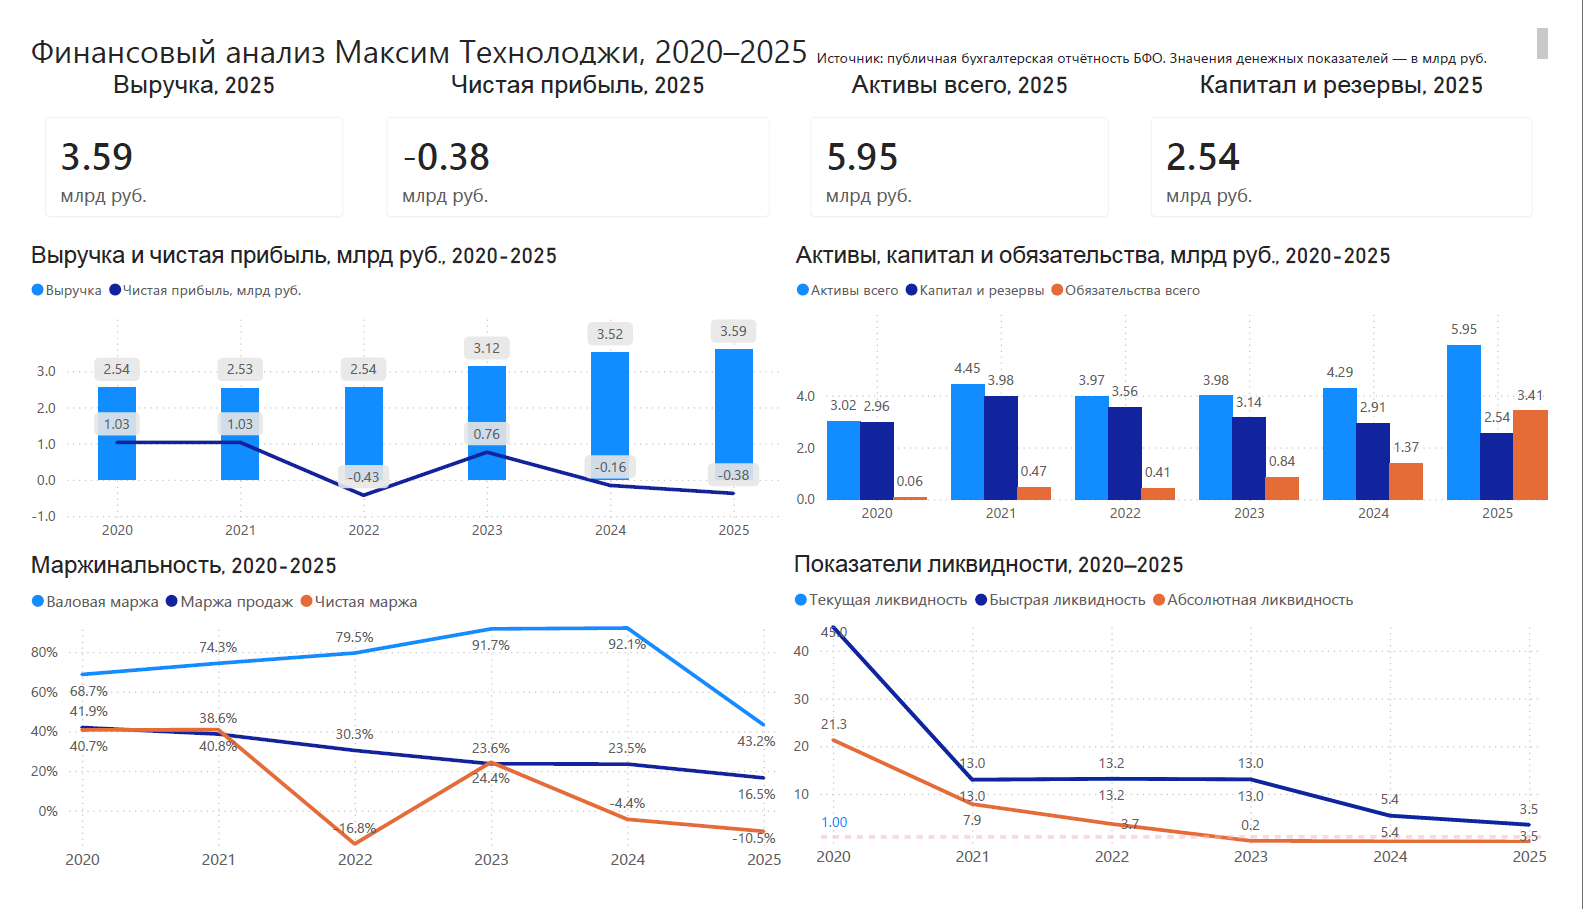

The page's visual inventory and layout, read from the dashboard file:
{"tool":"powerbi","page":{"name":"Финансовый обзор","canvas":[1280,720],"ordinal":0},"visuals":[{"type":"lineClusteredColumnComboChart","title":"Выручка и чистая прибыль, млрд руб., 2020-2025","fields":{"Category":["analytics_mart.Год"],"Y2":["analytics_mart.Чистая прибыль, млрд руб."],"Y":["analytics_mart.Выручка, млрд руб."]},"box":[0,182.9,640,260],"z":0},{"type":"cardVisual","title":"Выручка, 2025","fields":{"Data":["analytics_mart.Выручка, 2025"]},"box":[0,40,284.3,142.9],"z":1},{"type":"actionButton","box":[0,0,100,40],"z":2},{"type":"cardVisual","title":"Чистая прибыль, 2025","fields":{"Data":["analytics_mart.Чистая прибыль, 2025"]},"box":[285.7,40,355.7,142.9],"z":3},{"type":"cardVisual","title":"Активы всего, 2025","fields":{"Data":["analytics_mart.Активы всего, 2025"]},"box":[641.4,40,284.3,142.9],"z":4},{"type":"cardVisual","title":"Капитал и резервы, 2025","fields":{"Data":["analytics_mart.Капитал и резервы, 2025"]},"box":[925.7,40,354.3,142.9],"z":5},{"type":"clusteredColumnChart","title":"Активы, капитал и обязательства, млрд руб., 2020-2025","fields":{"Category":["analytics_mart.Год"],"Y":["analytics_mart.Активы всего, млрд руб.","analytics_mart.Капитал и резервы, млрд руб.","analytics_mart.Обязательства всего, млрд руб."]},"box":[641.4,182.9,638.6,245.7],"z":6},{"type":"lineChart","title":"Маржинальность, 2020-2025","fields":{"Category":["analytics_mart.Год"],"Y":["analytics_mart.Валовая маржа, %","analytics_mart.Маржа продаж, %","analytics_mart.Чистая маржа, %"]},"box":[0,443.5,639.4,276.1],"z":7},{"type":"lineChart","title":"Показатели ликвидности, 2020–2025","fields":{"Category":["analytics_mart.Год"],"Y":["analytics_mart.Коэффициент текущей ликвидности 2","analytics_mart.Коэффициент быстрой ликвидности 2","analytics_mart.Коэффициент абсолютной ликвидности 2"]},"box":[638.8,442.3,641.5,276.2],"z":8},{"type":"textbox","box":[0,0,1280,40],"z":9}]}

Visuals, with their boxes in screenshot pixels (x1, y1, x2, y2), scaled from the page's 1280x720 canvas onto the 1583x909 screenshot:
"Выручка и чистая прибыль, млрд руб., 2020-2025" lineClusteredColumnComboChart: Rect(0, 231, 792, 559)
"Выручка, 2025" cardVisual: Rect(0, 50, 352, 231)
actionButton: Rect(0, 0, 124, 50)
"Чистая прибыль, 2025" cardVisual: Rect(353, 50, 793, 231)
"Активы всего, 2025" cardVisual: Rect(793, 50, 1145, 231)
"Капитал и резервы, 2025" cardVisual: Rect(1145, 50, 1582, 231)
"Активы, капитал и обязательства, млрд руб., 2020-2025" clusteredColumnChart: Rect(793, 231, 1582, 541)
"Маржинальность, 2020-2025" lineChart: Rect(0, 560, 791, 908)
"Показатели ликвидности, 2020–2025" lineChart: Rect(790, 558, 1582, 907)
textbox: Rect(0, 0, 1582, 50)
